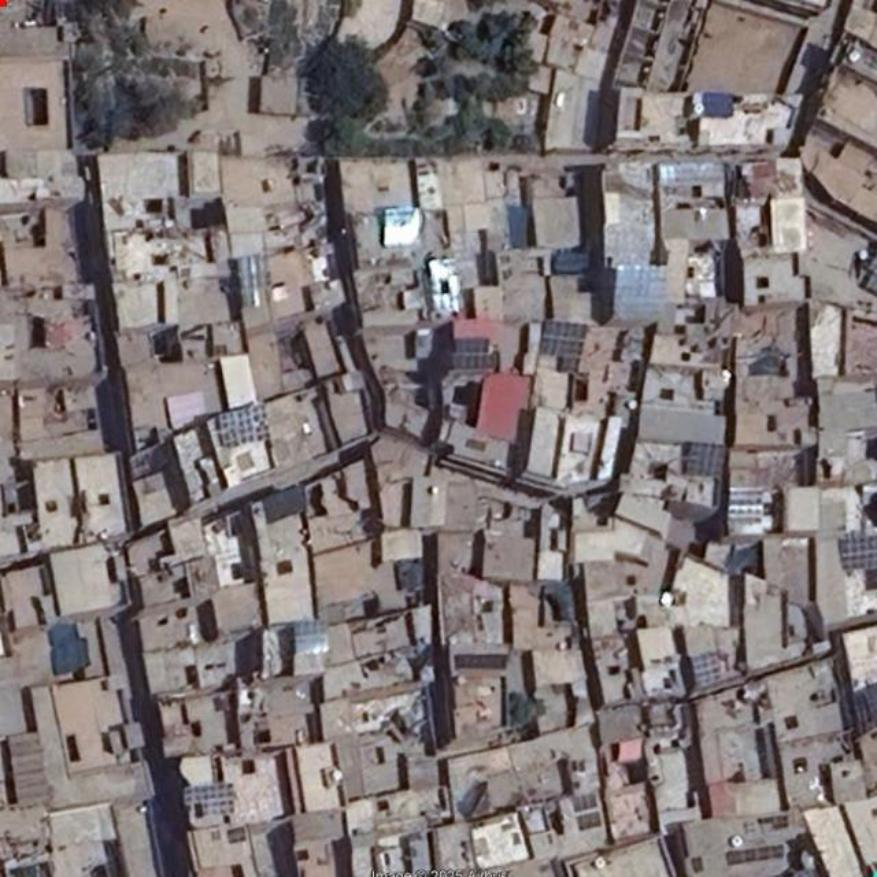Solarpanel: (428, 255, 462, 310), (218, 407, 268, 444), (539, 320, 589, 357), (184, 784, 234, 815), (837, 534, 876, 570), (381, 207, 418, 243), (685, 446, 726, 478), (726, 845, 786, 866), (448, 340, 496, 366), (295, 620, 330, 654), (691, 652, 721, 685)
